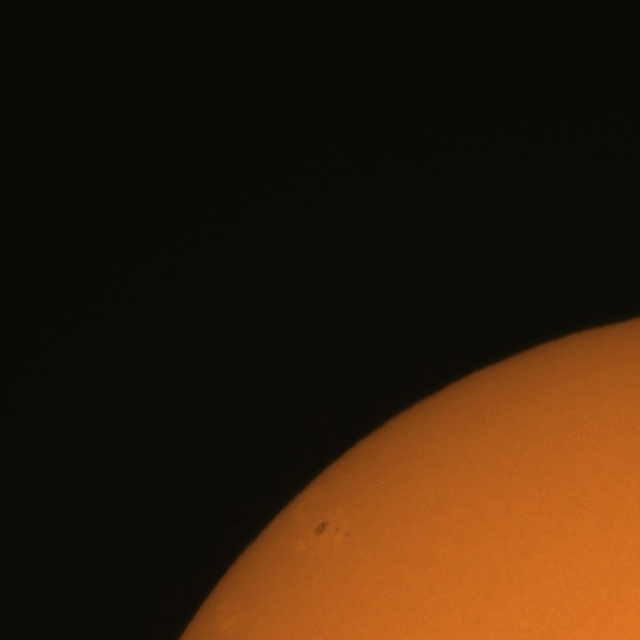sunspot: (315, 519, 351, 540), (314, 520, 330, 537)
